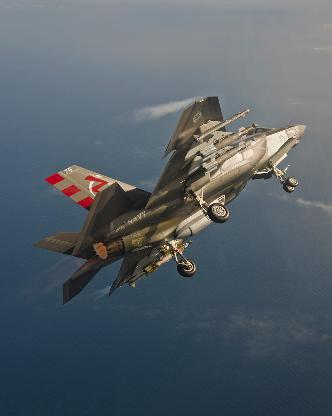F22: (32, 96, 304, 304)
